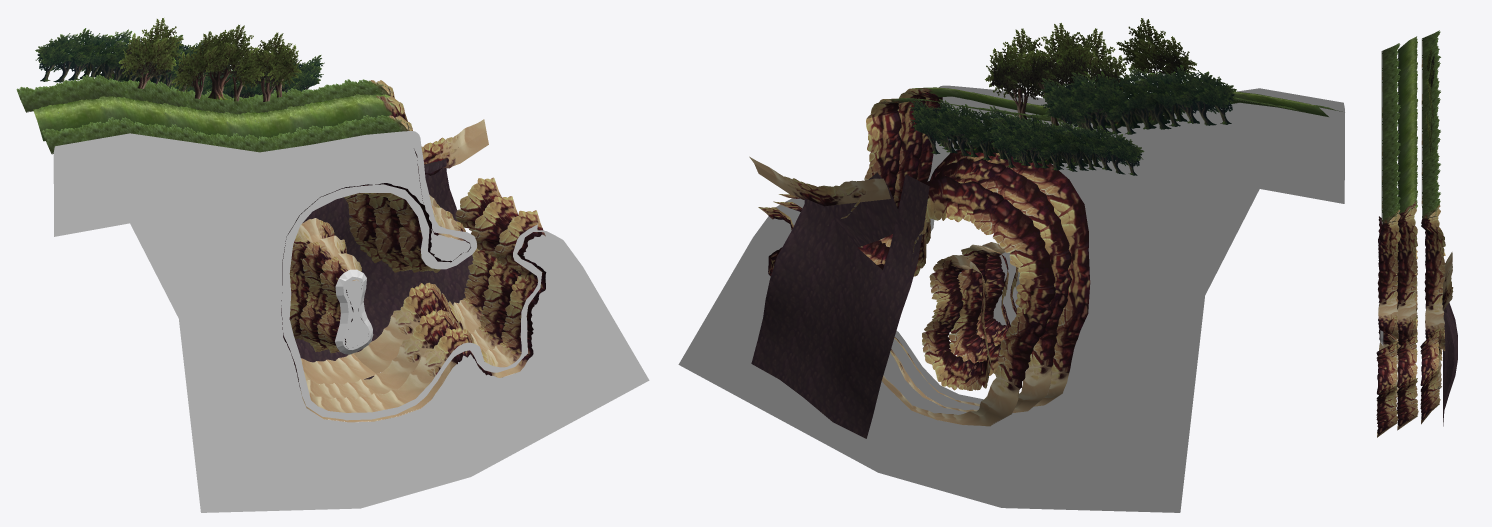
The model's file is LVL12 Pt1.FBX.
The picture shows the model from 3 angles, left to right: view 1: azimuth 30°, elevation 25°; view 2: azimuth 150°, elevation 25°; view 3: azimuth 270°, elevation 25°; orthographic projection. The views are drawn at different scales.
Visible parts, largest first — view 1: LVL 12 Black Pt 1_1, LVL 12 Black Pt 1_3, LVL 12 Black Pt 1_2, LVL12 GrassToRock Pt1, LVL12 Trees Pt1_1, LVL12 RockToSand Pt1_3 FG, LVL12 GrassToRock Pt1 BG, LVL12 RockToSand Pt1_3, LVL12 Tree BG Pt1, LVL12 RockToSand Pt1_3 BG, LVL12 GrassToRock Pt1 FG, LVL 12 Dirt BG Pt 1_1 (+9 smaller); view 2: LVL 12 Black Pt 1_1, LVL 12 Dirt BG Pt 1_1, LVL 12 Black Pt 1_3, LVL12 Tree BG Pt1, LVL12 RockToSand Pt1_1 BG, LVL12 RockToSand Pt1_1, LVL12 Trees Pt1_1, LVL12 RockToSand Pt1_1 FG, LVL12 RockToSand Pt1_2 BG, LVL12 RockToSand Pt1_2, LVL 12 Dirt BG Edge Pt 1, LVL12 GrassToRock Pt1 (+4 smaller); view 3: LVL12 GrassToRock Pt1, LVL12 GrassToRock Pt1 FG, LVL12 GrassToRock Pt1 BG, LVL12 RockToSand Pt1_2, LVL12 RockToSand Pt1_2 BG, LVL12 RockToSand Pt1_2 FG, LVL12 RockToSand Pt1_3 FG, LVL12 RockToSand Pt1_3, LVL12 RockToSand Pt1_3 BG, LVL 12 Dirt BG Pt 1_1, LVL12 Trees Pt1_1, LVL 12 Dirt BG Edge Pt 1 (+4 smaller).
Boxes of the visible parts, x1,y1,x2,y2 form: LVL 12 Black Pt 1_1: [53, 133, 371, 512]; LVL 12 Black Pt 1_3: [360, 224, 649, 508]; LVL 12 Black Pt 1_2: [258, 131, 476, 269]; LVL12 GrassToRock Pt1: [33, 94, 405, 141]; LVL12 Trees Pt1_1: [118, 18, 301, 101]; LVL12 RockToSand Pt1_3 FG: [378, 210, 546, 416]; LVL12 GrassToRock Pt1 BG: [16, 74, 394, 114]; LVL12 RockToSand Pt1_3: [365, 196, 521, 393]; LVL12 Tree BG Pt1: [35, 28, 324, 98]; LVL12 RockToSand Pt1_3 BG: [353, 177, 501, 373]; LVL12 GrassToRock Pt1 FG: [42, 115, 412, 154]; LVL 12 Dirt BG Pt 1_1: [342, 158, 473, 340]; LVL 12 Black Pt 1_1: [992, 88, 1344, 512]; LVL 12 Dirt BG Pt 1_1: [751, 172, 929, 438]; LVL 12 Black Pt 1_3: [678, 198, 1001, 507]; LVL12 Tree BG Pt1: [908, 65, 1236, 175]; LVL12 RockToSand Pt1_1 BG: [911, 176, 1055, 426]; LVL12 RockToSand Pt1_1: [940, 158, 1071, 413]; LVL12 Trees Pt1_1: [985, 18, 1196, 127]; LVL12 RockToSand Pt1_1 FG: [955, 147, 1090, 406]; LVL12 RockToSand Pt1_2 BG: [828, 112, 947, 269]; LVL12 RockToSand Pt1_2: [858, 102, 964, 276]; LVL 12 Dirt BG Edge Pt 1: [749, 156, 890, 206]; LVL12 GrassToRock Pt1: [898, 87, 1328, 122]; LVL12 GrassToRock Pt1: [1398, 36, 1417, 228]; LVL12 GrassToRock Pt1 FG: [1381, 43, 1400, 234]; LVL12 GrassToRock Pt1 BG: [1421, 30, 1440, 229]; LVL12 RockToSand Pt1_2: [1396, 225, 1417, 346]; LVL12 RockToSand Pt1_2 BG: [1421, 226, 1445, 350]; LVL12 RockToSand Pt1_2 FG: [1377, 231, 1400, 341]; LVL12 RockToSand Pt1_3 FG: [1376, 341, 1398, 437]; LVL12 RockToSand Pt1_3: [1397, 333, 1418, 430]; LVL12 RockToSand Pt1_3 BG: [1420, 328, 1440, 424]; LVL 12 Dirt BG Pt 1_1: [1443, 300, 1457, 426]; LVL12 Trees Pt1_1: [1426, 46, 1434, 157]; LVL 12 Dirt BG Edge Pt 1: [1442, 252, 1453, 311].
Size of the model in its own units: 8903 by 1875 by 7231.
